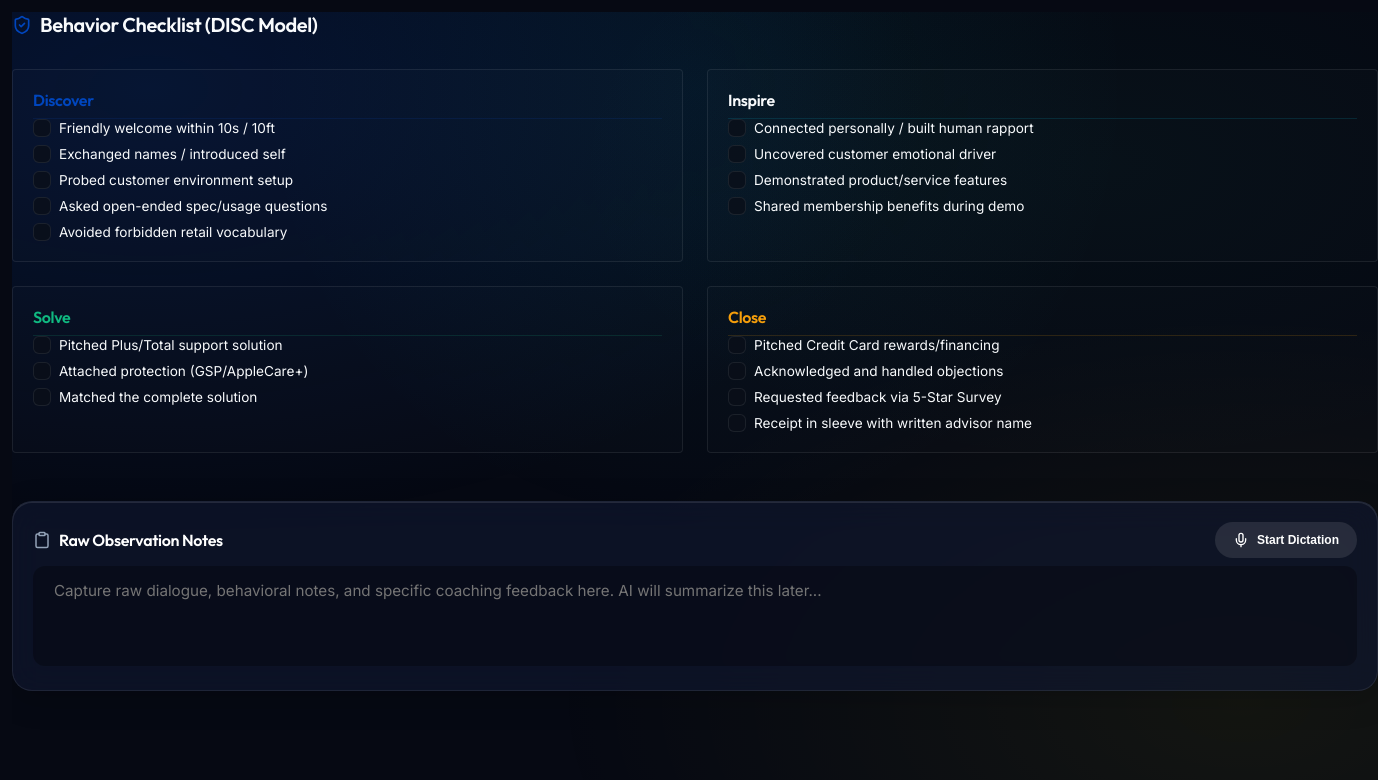
Scenario: ShadowStep2Observation › handles dictation button click
Click the button with test id "shadow-dictation-btn" at x=1286, y=540, box x1=1215 y1=522 x2=1357 y2=558
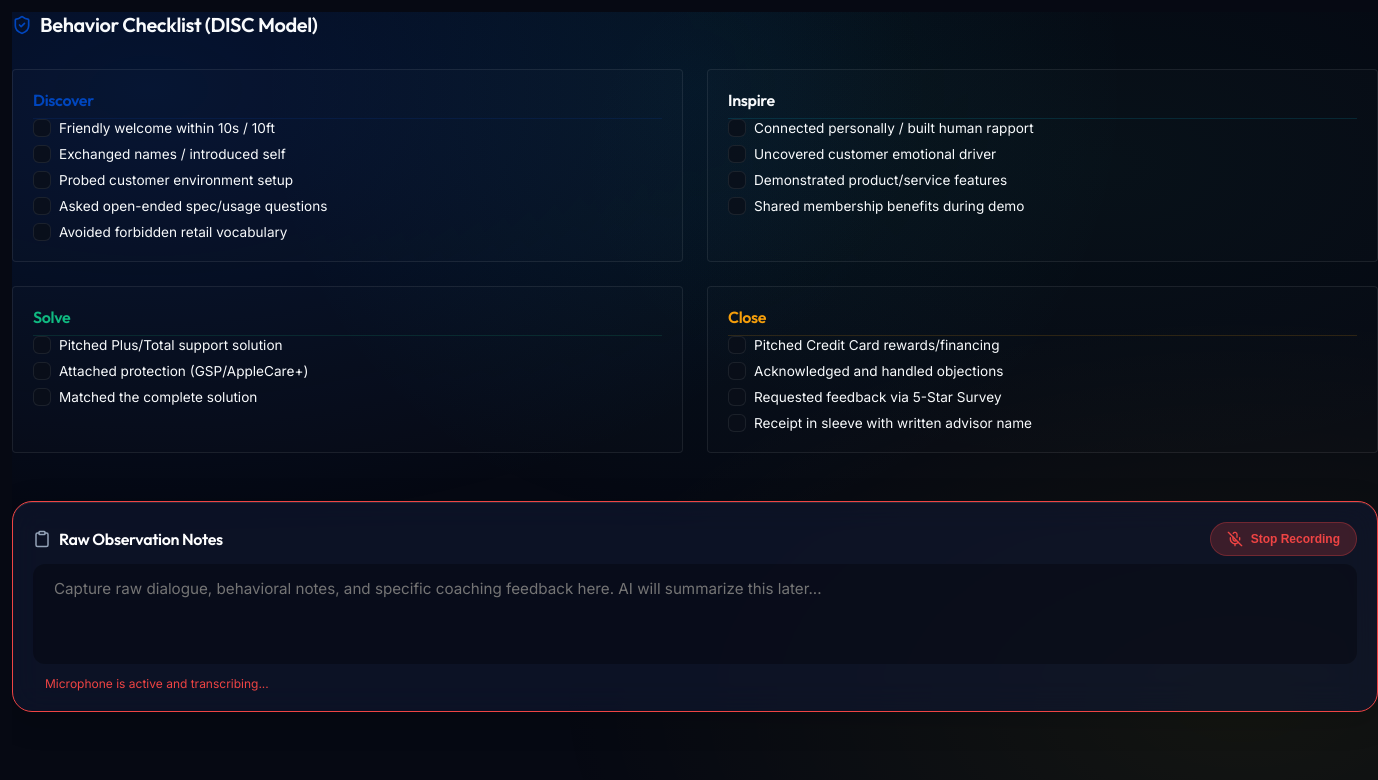
Now the button with test id "shadow-dictation-btn" reads "Stop Recording"
Click the button with test id "shadow-dictation-btn" at x=1283, y=539, box x1=1210 y1=522 x2=1357 y2=556
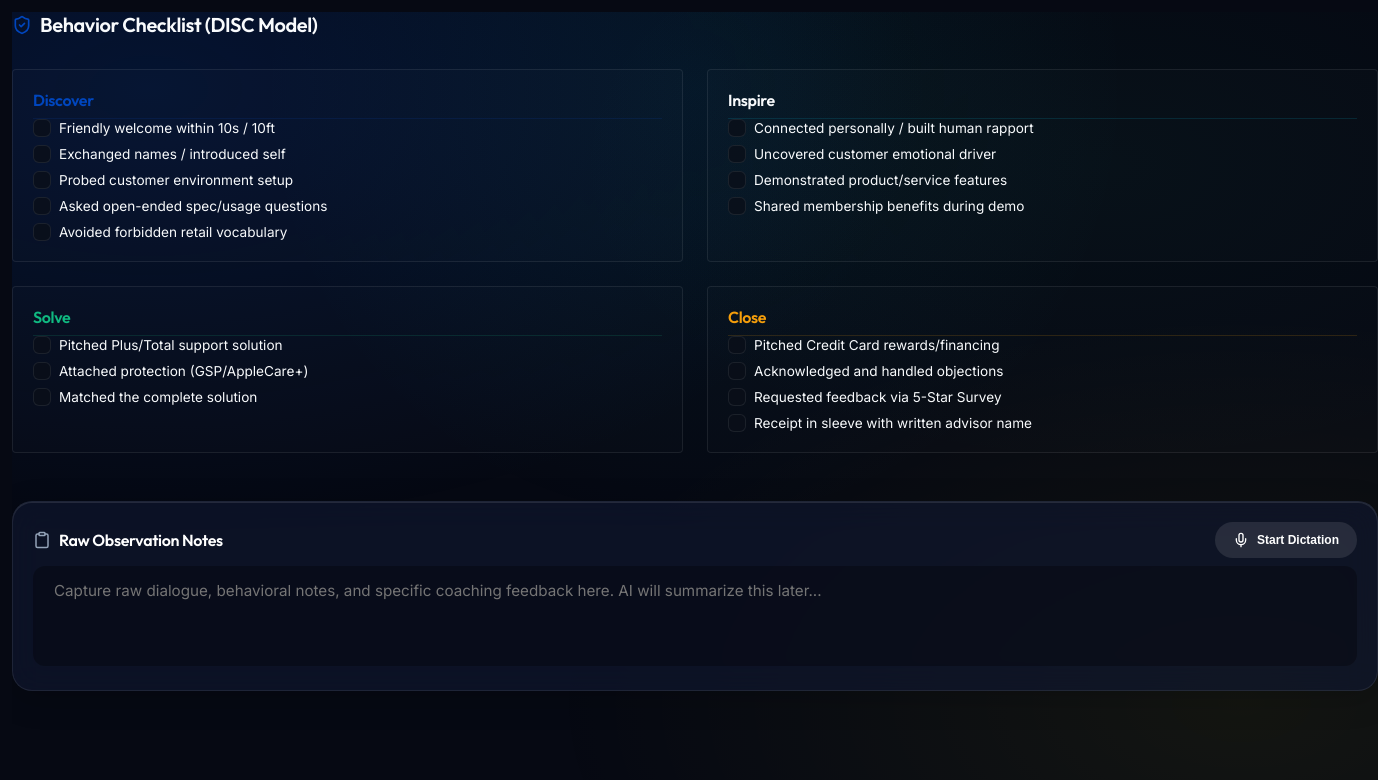
Now the button with test id "shadow-dictation-btn" reads "Start Dictation", box x1=1215 y1=522 x2=1357 y2=558
